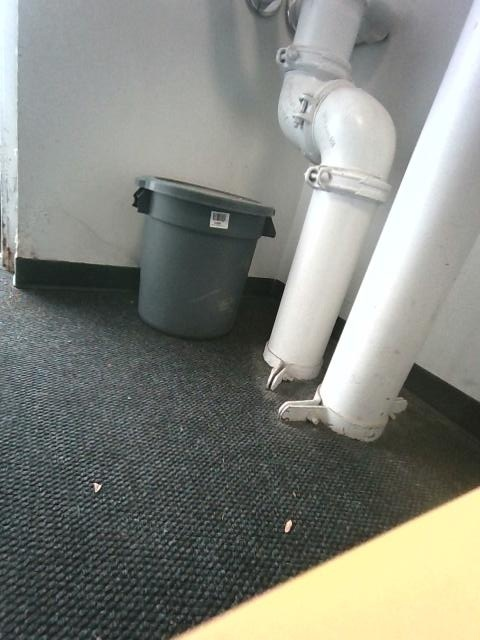ball: (134, 176, 274, 337)
